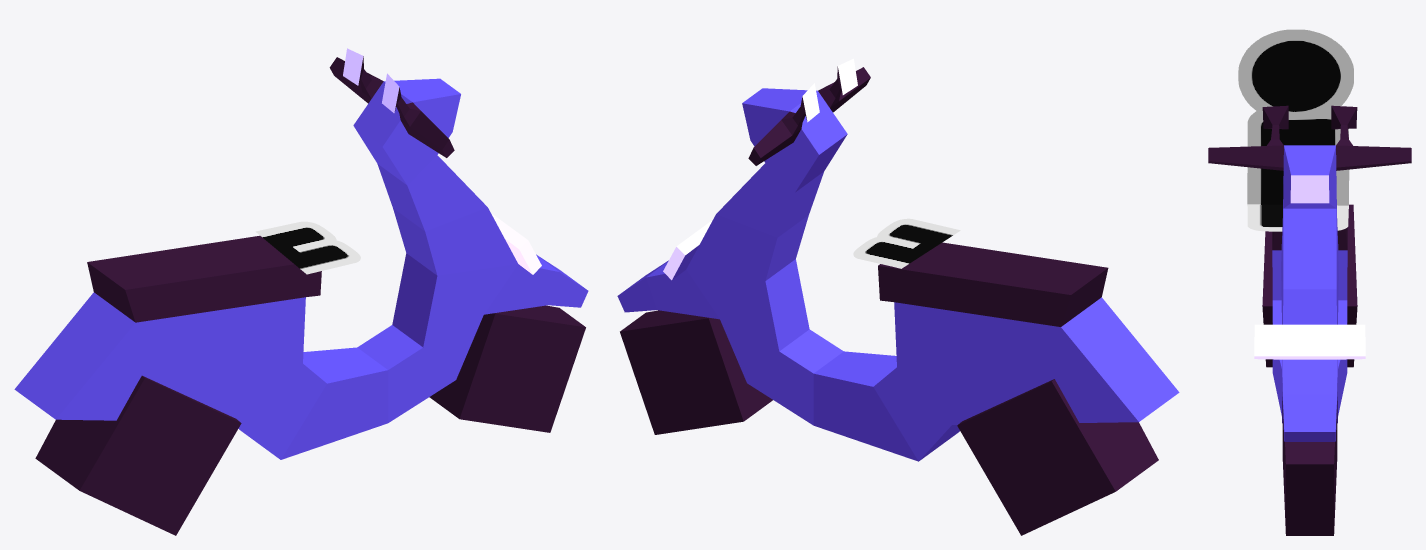
File: Motor_Spion_Plat.fbx
3 renders of one model, left to right at view 1: azimuth 30°, elevation 25°; view 2: azimuth 150°, elevation 25°; view 3: azimuth 270°, elevation 25°, orthographic. The views are drawn at different scales.
Parts seen in each view (by area): view 1: Motor, Sprite People.001; view 2: Motor, Sprite People.001; view 3: Motor, Sprite People.001.
Part boxes in pixels (bbox=[...]): Motor: bbox=[14, 48, 588, 535]; Sprite People.001: bbox=[255, 221, 360, 274]; Motor: bbox=[617, 58, 1179, 535]; Sprite People.001: bbox=[853, 218, 960, 268]; Motor: bbox=[1208, 105, 1411, 535]; Sprite People.001: bbox=[1238, 29, 1353, 231].
Size of the model in its own units: 262 by 210 by 95.02.
